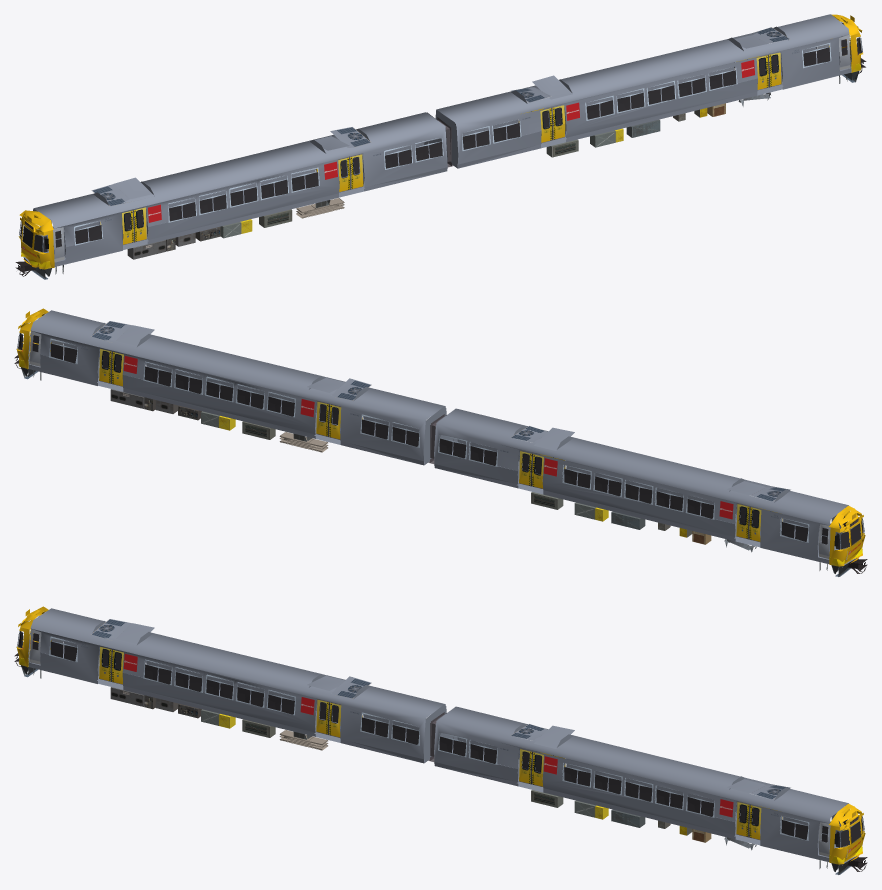
File: train_low.glb
3 views of the same model, one above another, from view 1: azimuth 30°, elevation 25°; view 2: azimuth 150°, elevation 25°; view 3: azimuth 330°, elevation 25° (orthographic).
Visible parts, largest first — view 1: Cube.022_Cube.000_Cube.022_Cube.001, Cube.022_Cube.000_Cube.022_Cube.003; view 2: Cube.022_Cube.000_Cube.022_Cube.001, Cube.022_Cube.000_Cube.022_Cube.003; view 3: Cube.022_Cube.000_Cube.022_Cube.001, Cube.022_Cube.000_Cube.022_Cube.003.
Part boxes in pixels (x1,y1,x2,y2): Cube.022_Cube.000_Cube.022_Cube.001: (15, 112, 451, 279); Cube.022_Cube.000_Cube.022_Cube.003: (435, 14, 866, 168); Cube.022_Cube.000_Cube.022_Cube.001: (430, 408, 867, 576); Cube.022_Cube.000_Cube.022_Cube.003: (14, 308, 446, 465); Cube.022_Cube.000_Cube.022_Cube.001: (14, 606, 446, 763); Cube.022_Cube.000_Cube.022_Cube.003: (430, 706, 867, 874).
Size of the model in its own units: 218 by 15.35 by 12.01.
3 materials, 3 textured.
